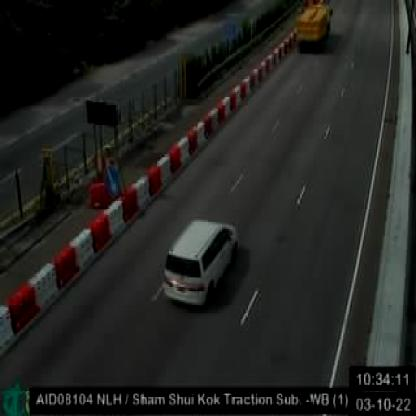Car: (162, 218, 238, 307)
Truck: (297, 0, 331, 50)
